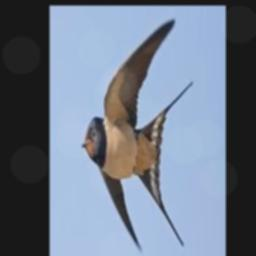Swallow: (82, 18, 193, 252)
